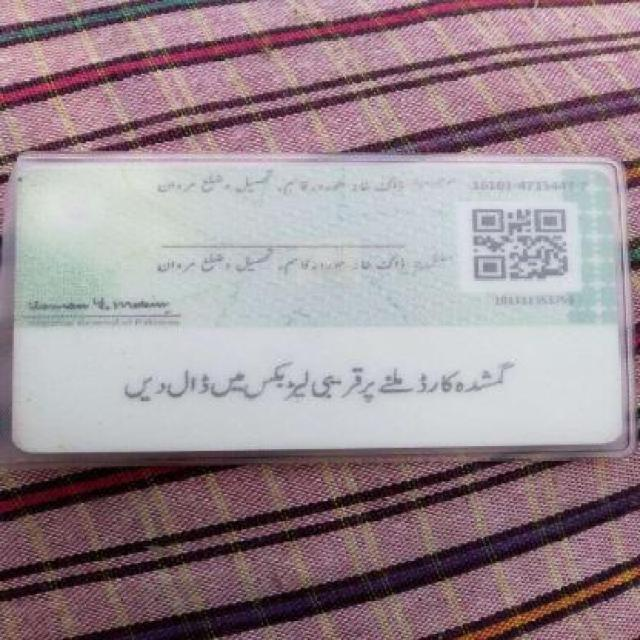Back: (8, 149, 628, 457)
